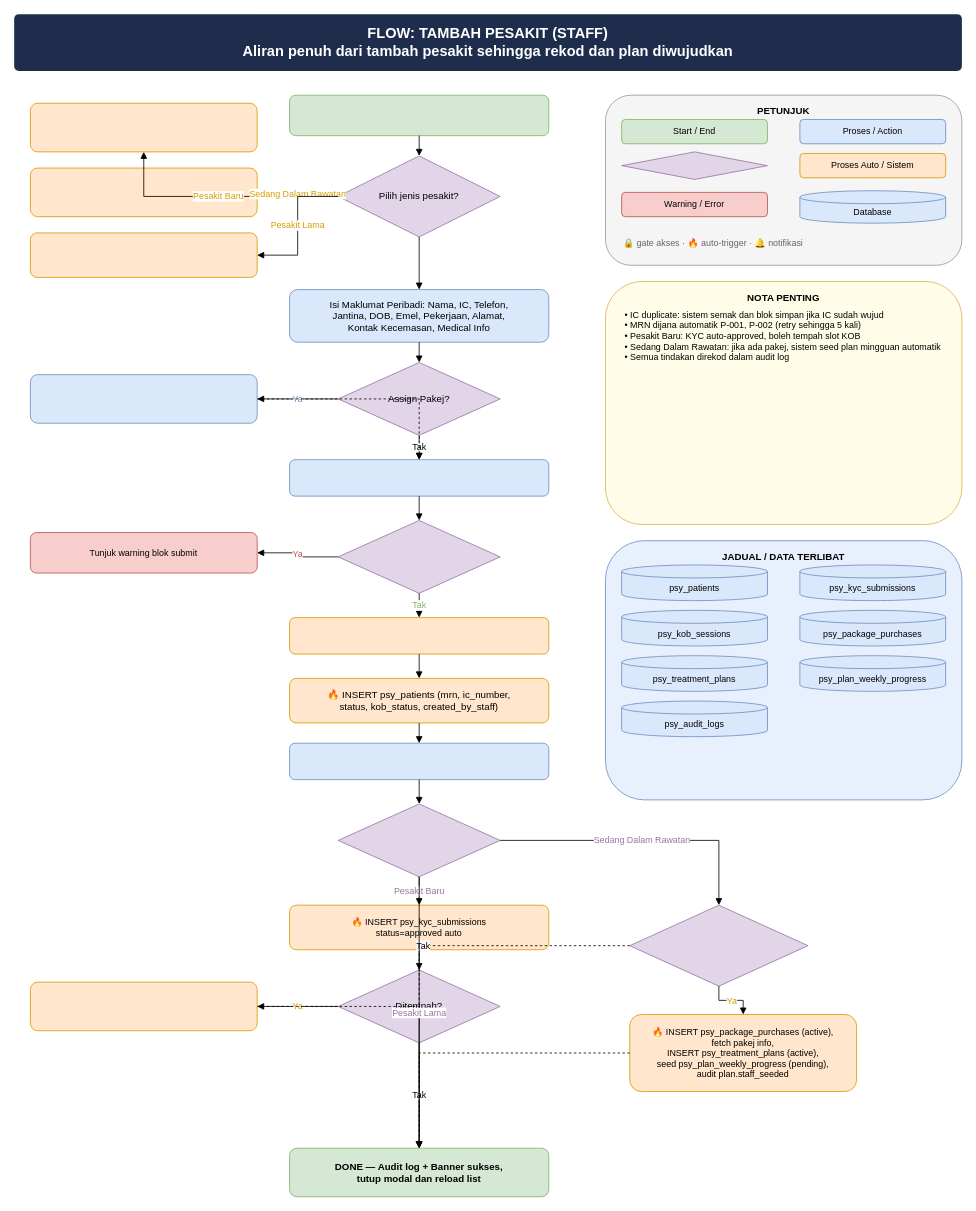
Some shapes in this 976 by 1211 pixel diagram are drawn without their labels. The shapes that lost their labels are listed below. From the top down, each one's centre as x and y in pixels, then its label:
the point at 143,127: 🔥 Pesakit Baru: status=unregistered, kob_status=kyc_done
the point at 419,115: START Staff klik 'Tambah Pesakit' → buka modal
the point at 694,165: Keputusan / Decision
the point at 143,192: 🔥 Sedang Dalam Rawatan: status=unregistered, kob_status=na (grandfathered)
the point at 143,254: 🔥 Pesakit Lama: status=inactive, kob_status=na
the point at 143,398: Pilih Pakej + Tarikh Beli + Tempoh + Minggu Semasa
the point at 419,477: Klik 'Simpan'
the point at 418,556: IC duplicate?
the point at 419,635: 🔥 Generate MRN P-001, P-002 ... (retry x5)
the point at 419,761: Upload reports (jika ada)
the point at 418,840: Jenis pesakit?
the point at 718,945: Ada pakej dipilih? (Sedang Dalam Rawatan)
the point at 143,1006: 🔥 INSERT psy_sessions + generate meet link kalau online
